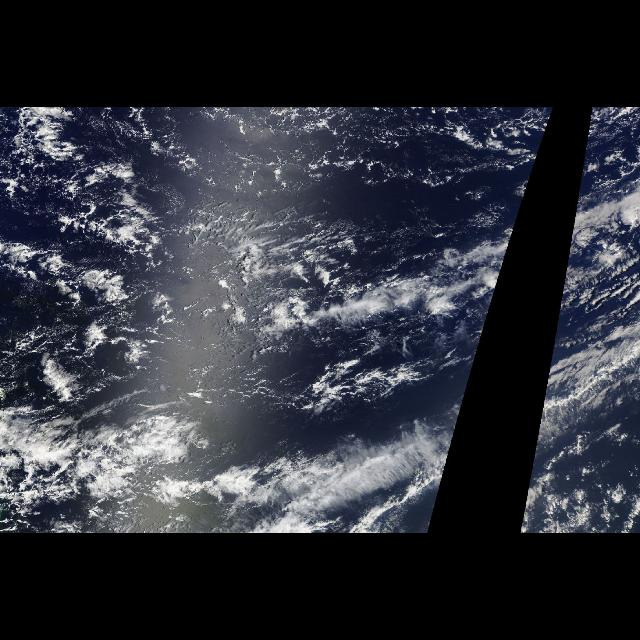Fish: (205, 332, 485, 526), (520, 332, 640, 526)
Gravel: (38, 128, 198, 406)
